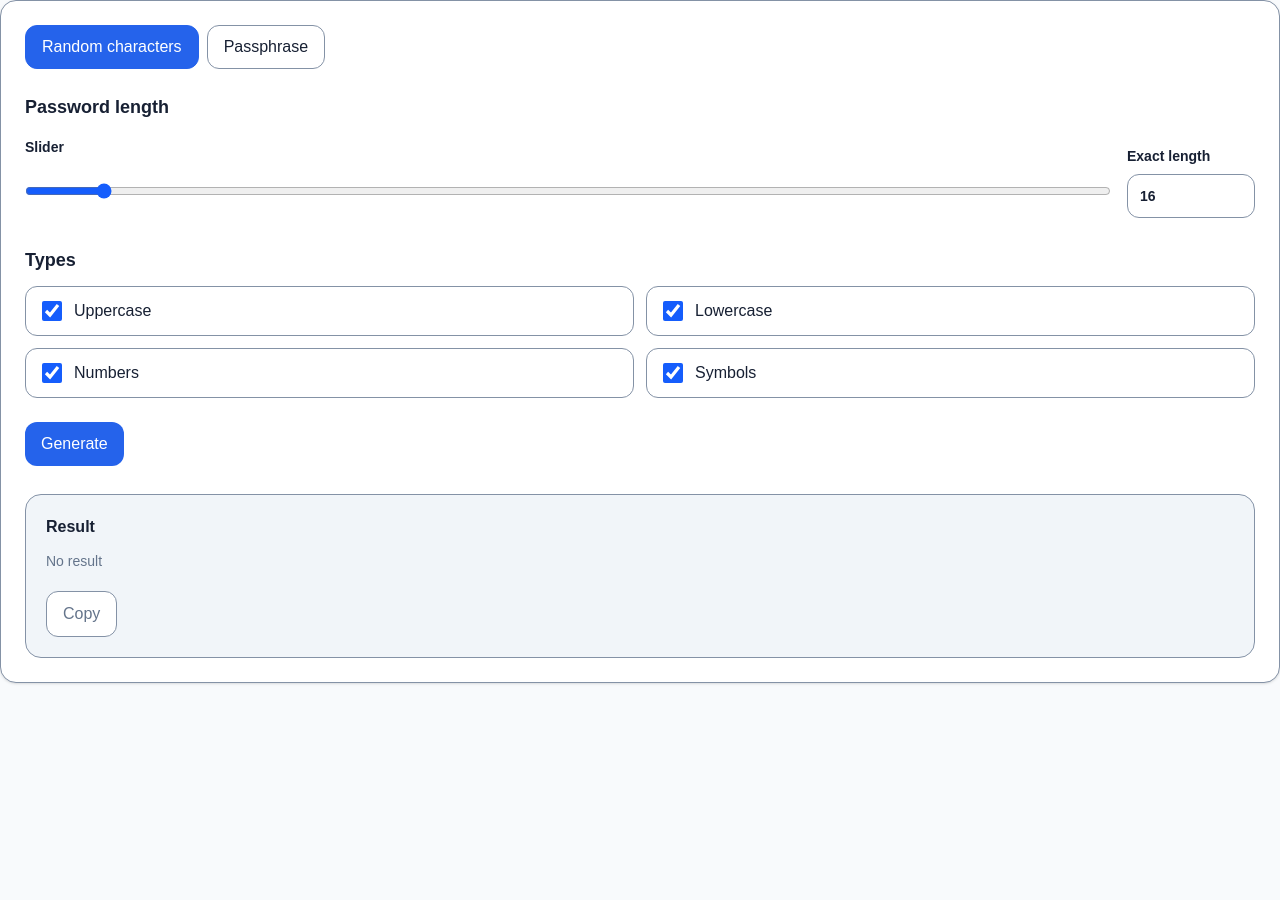
Scenario: PasswordGenerator › synchronizes length controls, normalizes values, and rejects an empty value
The width and height of the screenshot is (1280, 900).
Set the slider labelled "Slider" to "24" at coordinates (176, 191), box [25, 169, 1111, 213]
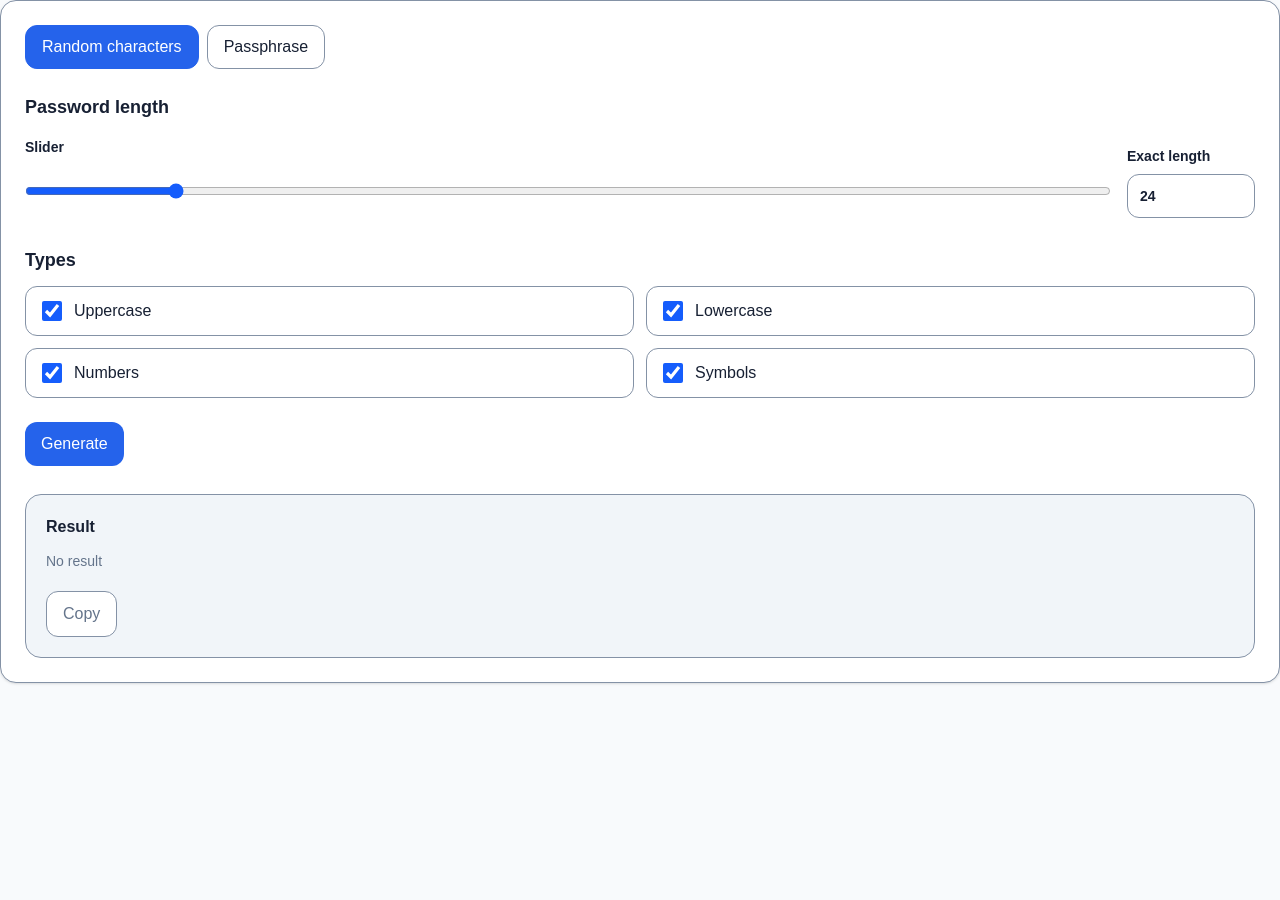
Now the number field labelled "Exact length" holds "24"
Replace the text in the number field labelled "Exact length" with "32" at coordinates (1191, 196), box [1127, 174, 1255, 218]
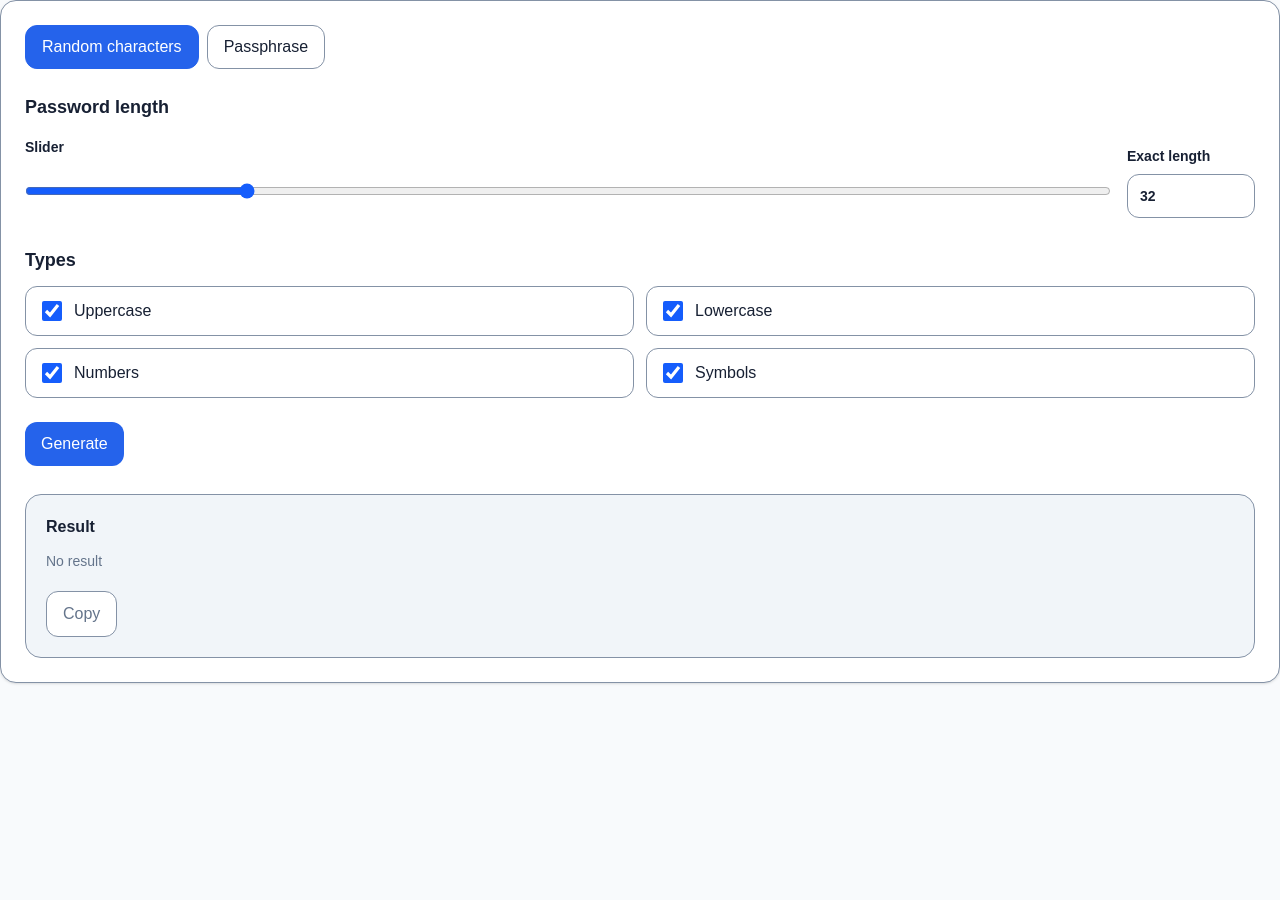
Now the slider labelled "Slider" holds "32", box [25, 169, 1111, 213]
Replace the text in the number field labelled "Exact length" with "200" at coordinates (1191, 196), box [1127, 174, 1255, 218]
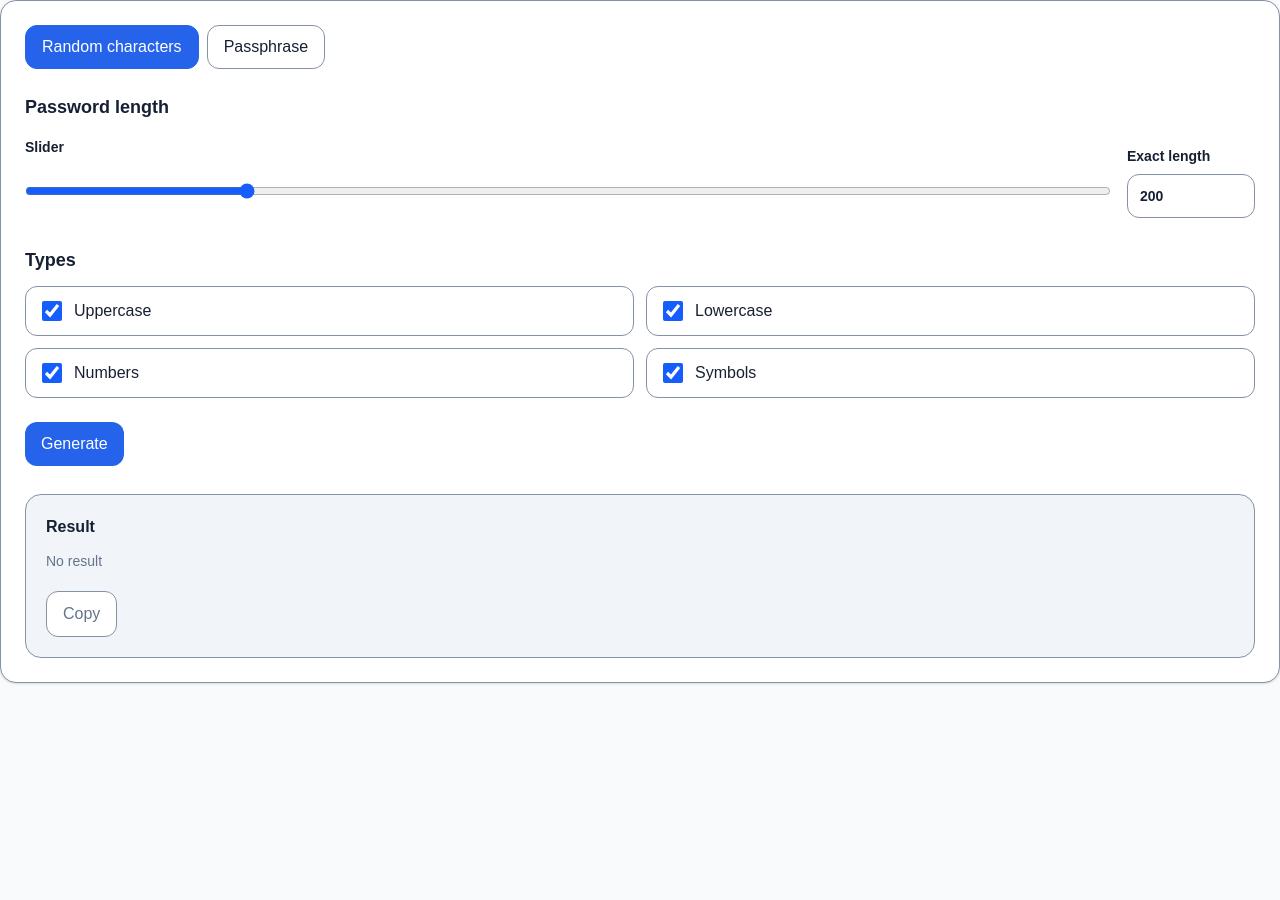
Leave the number field labelled "Exact length", box [1127, 174, 1255, 218]
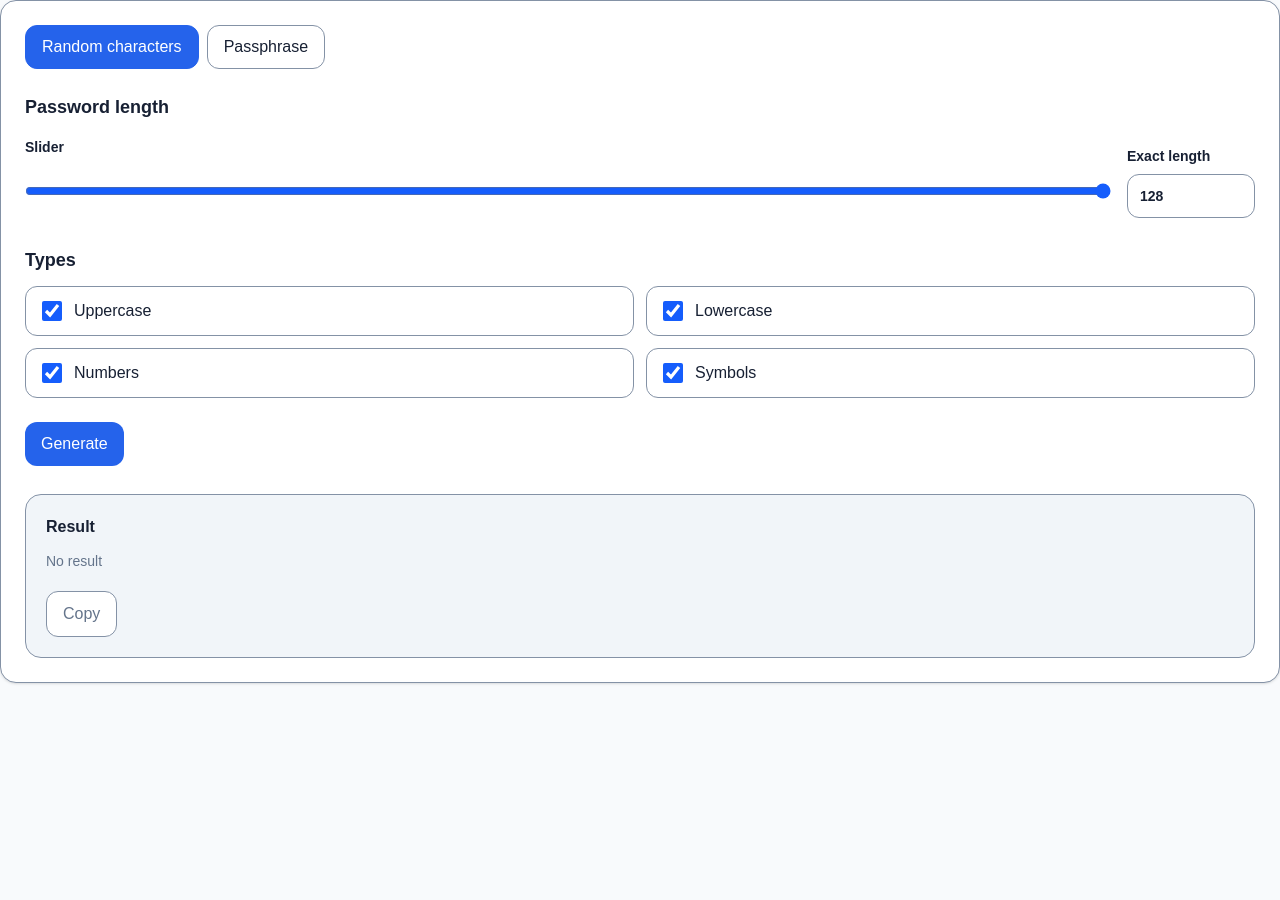
Now the number field labelled "Exact length" holds "128"
Now the slider labelled "Slider" holds "128", box [25, 169, 1111, 213]
Clear the number field labelled "Exact length" at coordinates (1191, 196), box [1127, 174, 1255, 218]
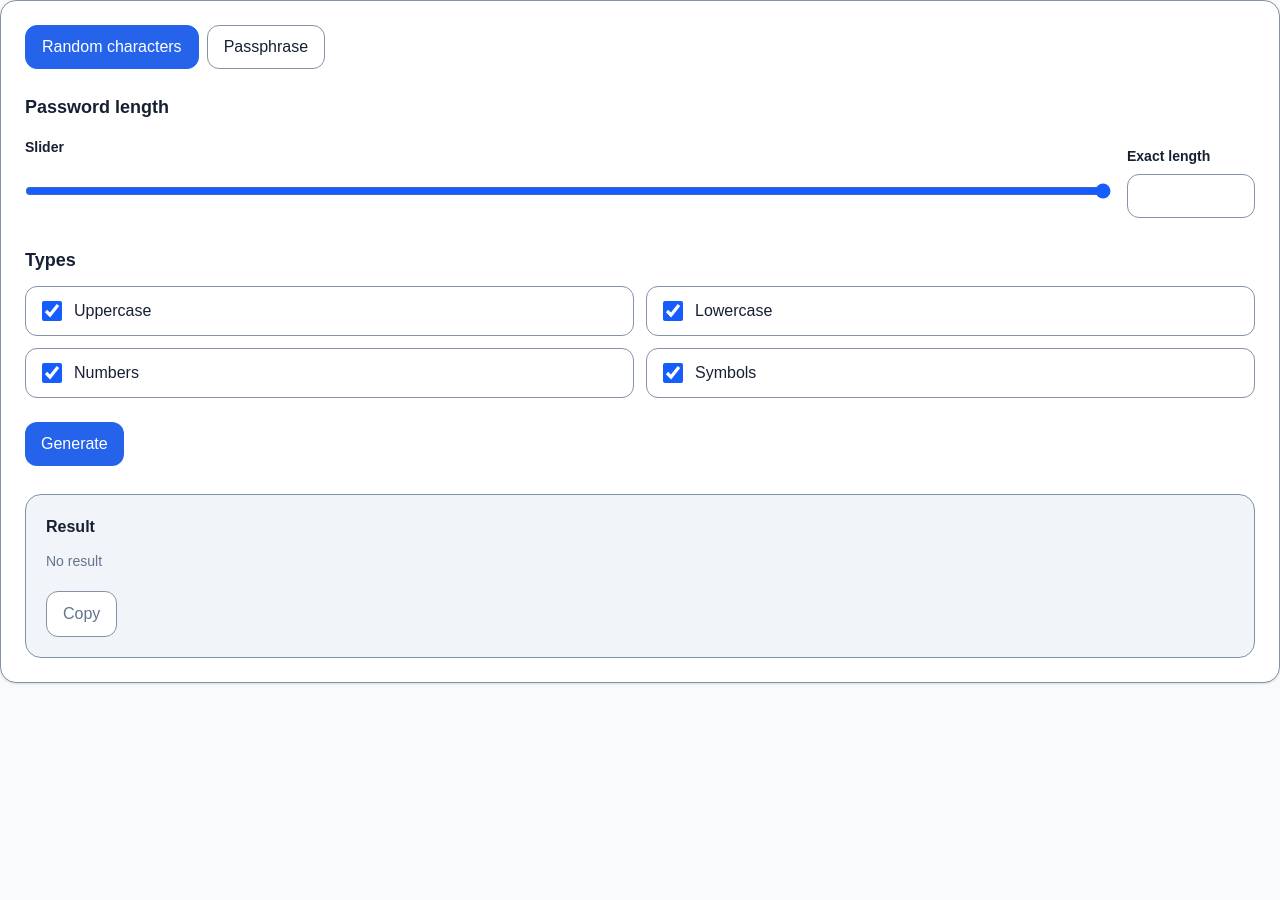
Click the button "Generate" at coordinates (74, 444), box [25, 422, 124, 466]
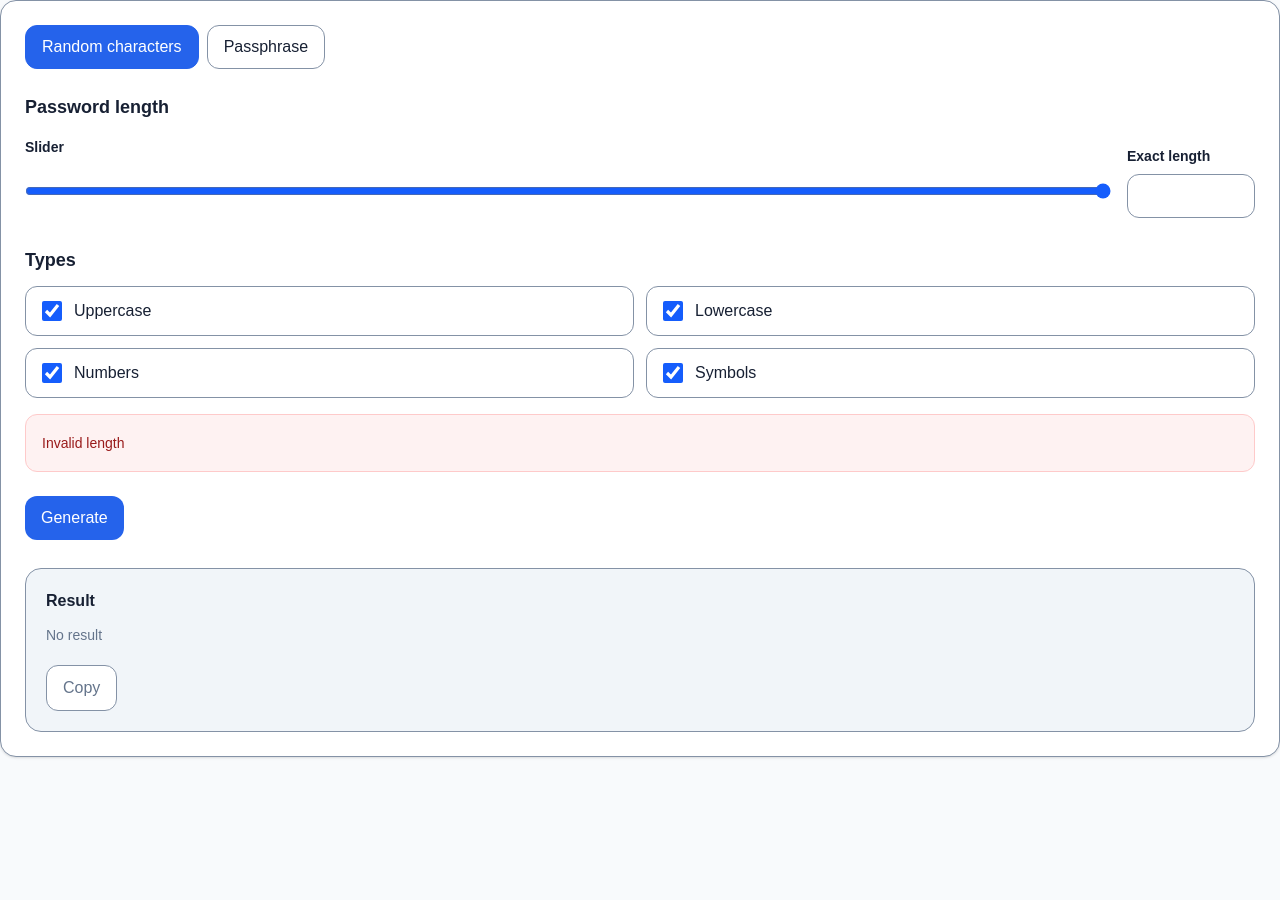
Now the message reads "Invalid length", box [42, 435, 124, 451]
